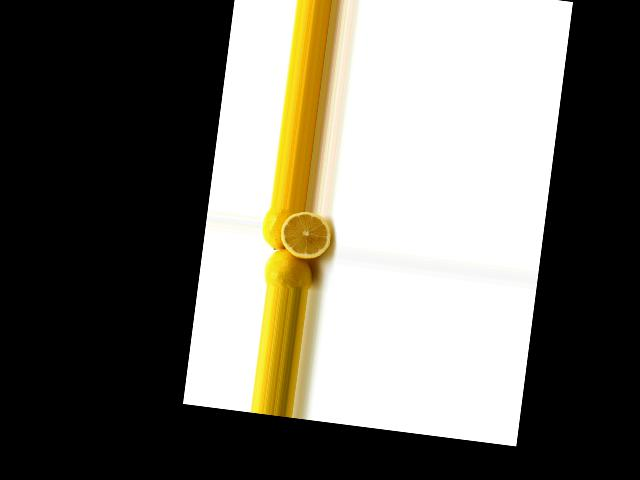lemon: (261, 206, 304, 259)
